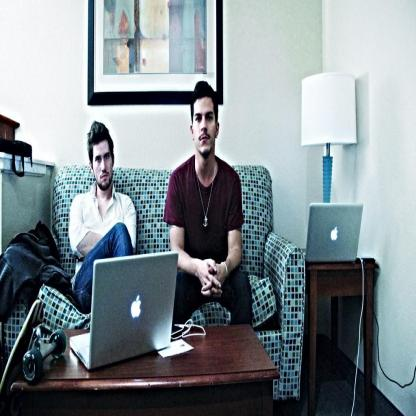board: (70, 251, 178, 370), (302, 204, 362, 262)
